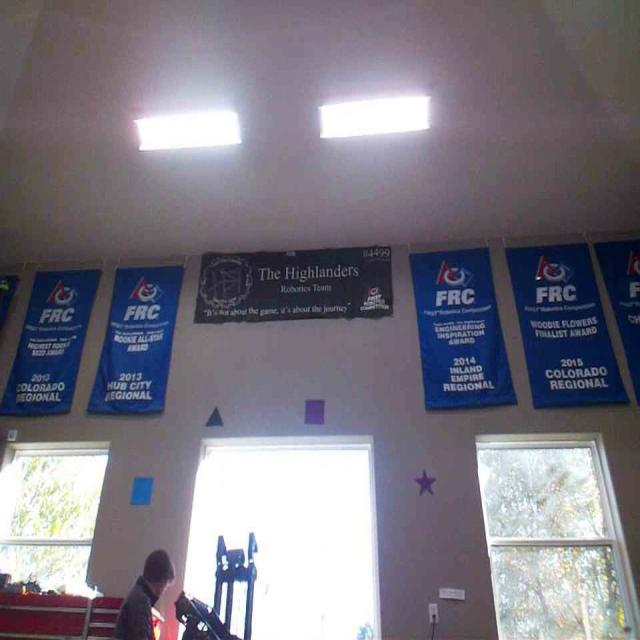square_blue: (130, 475, 153, 504)
square_purple: (304, 397, 326, 422)
star_purple: (414, 468, 437, 494)
triangle_black: (203, 406, 223, 426)
